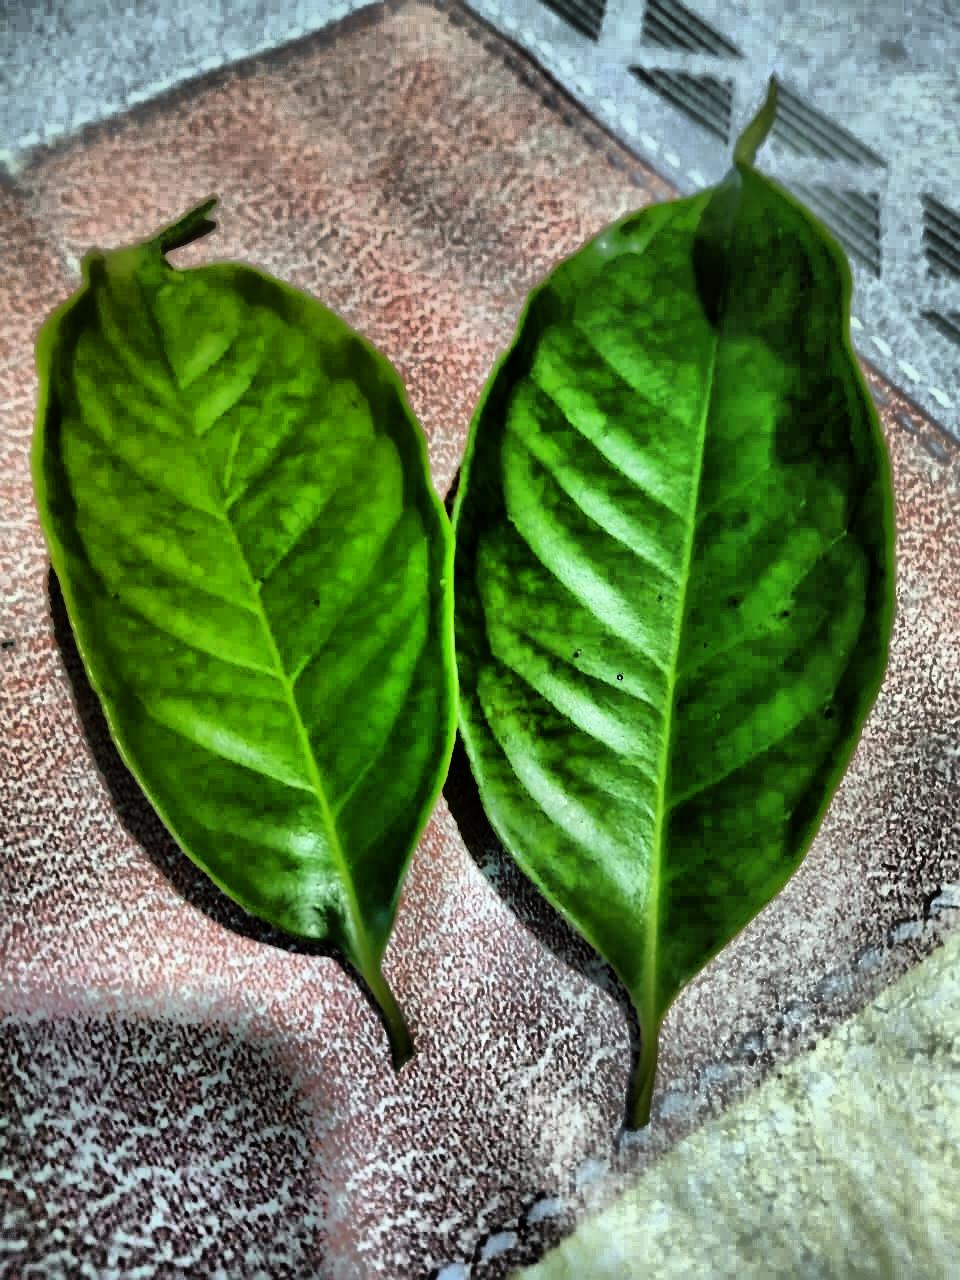daun salam: (34, 89, 893, 1122)
